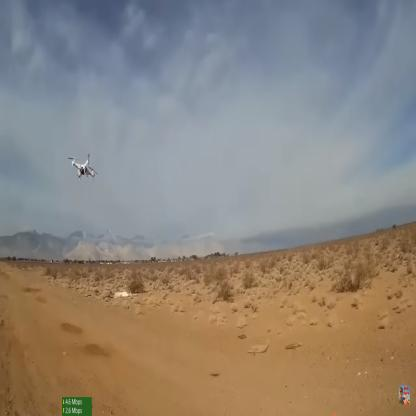drone: (67, 151, 99, 186)
